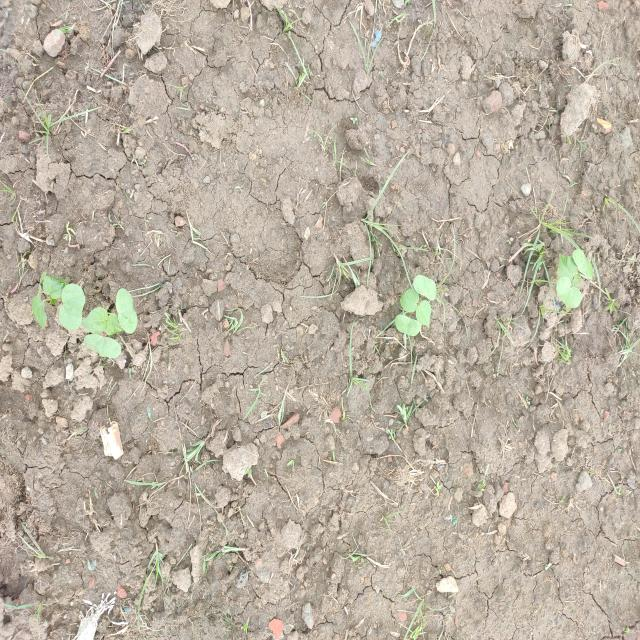seedling: (59, 284, 85, 330), (115, 289, 138, 333), (84, 334, 121, 359), (556, 276, 582, 308), (82, 307, 108, 333), (413, 275, 437, 301), (573, 250, 593, 279), (557, 254, 578, 281), (43, 276, 66, 299), (395, 315, 420, 336), (32, 296, 47, 329), (400, 289, 419, 313), (416, 300, 432, 327), (105, 313, 124, 335), (571, 273, 581, 288)
